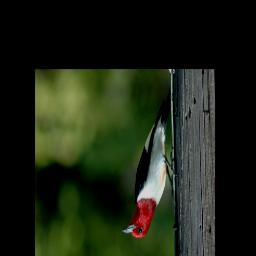Woodpecker: (121, 81, 181, 239)
